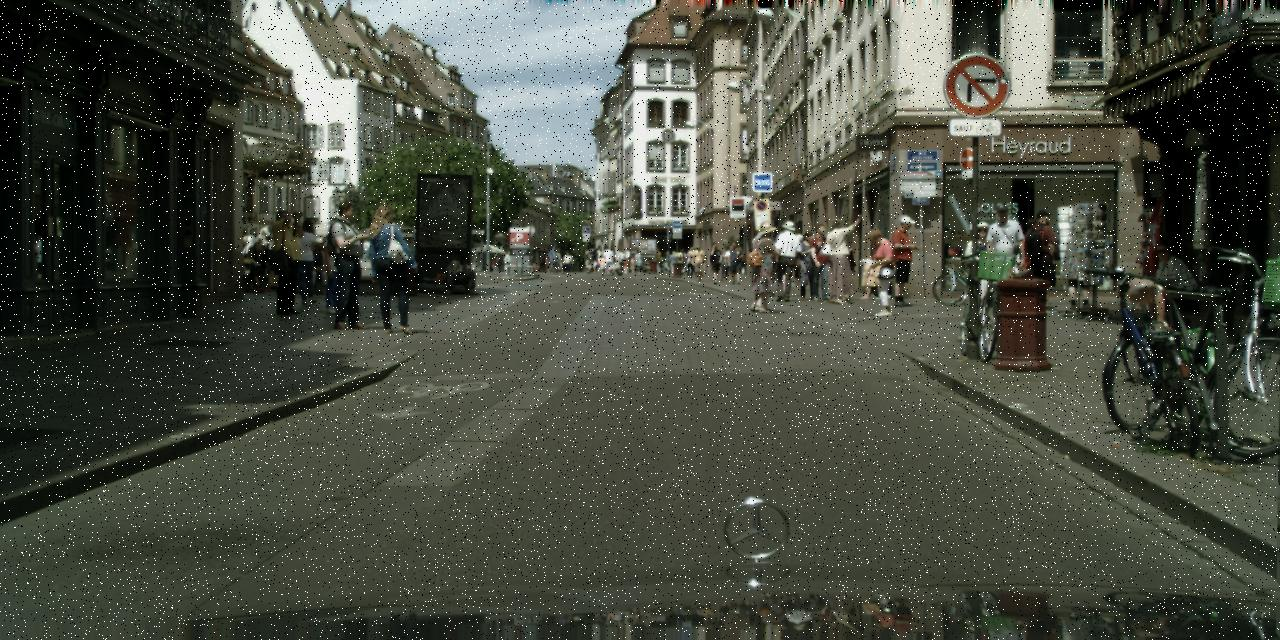ped: (322, 199, 374, 329), (364, 204, 416, 332), (981, 205, 1026, 316), (266, 210, 308, 314), (1022, 210, 1064, 312), (1050, 212, 1090, 310), (743, 220, 780, 312), (886, 216, 922, 306), (1013, 218, 1049, 306), (862, 228, 897, 316), (820, 218, 854, 304), (292, 218, 326, 304), (744, 226, 778, 310), (770, 220, 803, 301), (315, 233, 347, 314), (966, 222, 998, 302), (804, 224, 836, 301), (794, 231, 822, 298), (787, 233, 809, 289), (726, 242, 744, 284), (706, 241, 723, 284), (321, 231, 337, 271), (722, 244, 738, 282), (691, 244, 705, 281), (668, 249, 687, 274), (718, 250, 730, 282), (684, 246, 696, 277), (548, 245, 560, 274), (618, 248, 631, 274), (631, 248, 642, 274), (553, 248, 563, 273), (652, 248, 662, 272), (588, 248, 598, 272), (545, 251, 553, 272), (563, 252, 571, 272), (503, 251, 511, 271), (663, 251, 671, 270), (498, 253, 505, 271)
